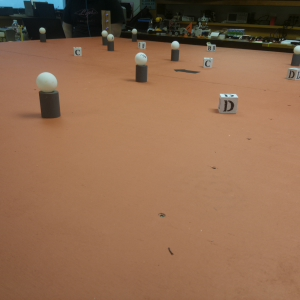blockB: (208, 43, 215, 53)
blockC: (72, 47, 85, 58), (204, 56, 213, 68)
blockD: (219, 92, 238, 113), (288, 67, 300, 82)
blockF: (138, 41, 147, 49)
corner: (102, 11, 111, 35)
obstacle: (36, 71, 61, 119), (135, 51, 148, 82), (170, 41, 181, 63), (291, 44, 300, 67), (38, 26, 47, 43), (108, 34, 115, 51), (131, 28, 139, 41), (102, 30, 108, 45)
start: (175, 67, 200, 75)
